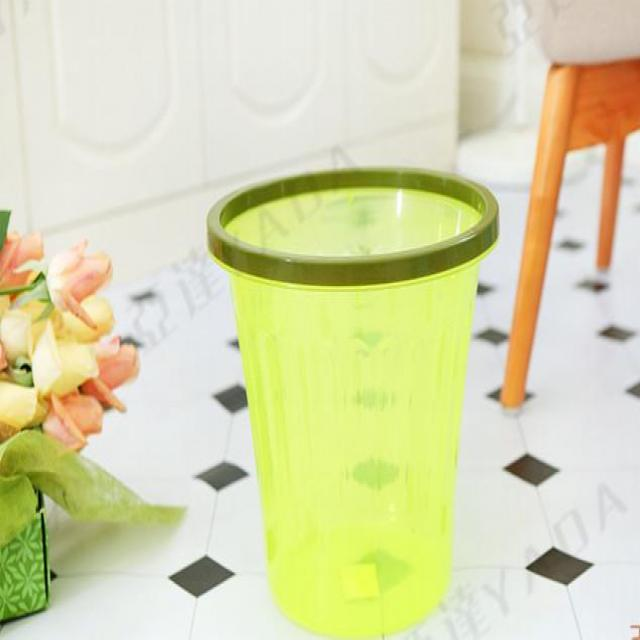Dustbin: (203, 158, 504, 640)
